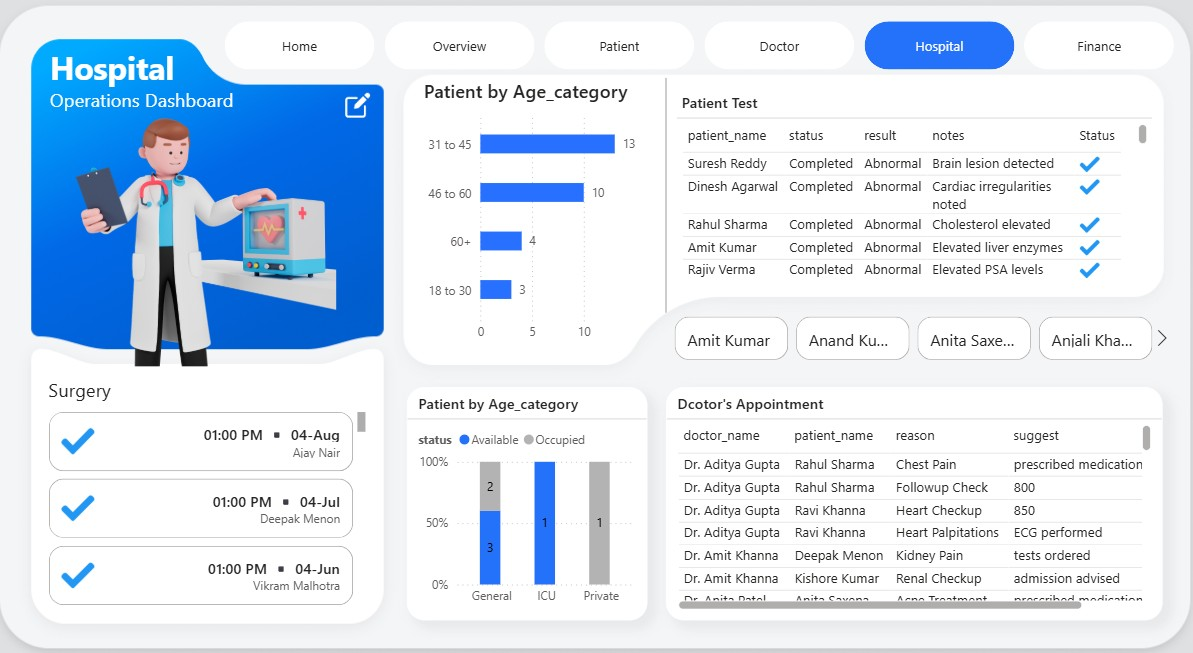

The page's visual inventory and layout, read from the dashboard file:
{"tool":"powerbi","page":{"name":"Hospital","canvas":[1280,720],"ordinal":4},"visuals":[{"type":"textbox","box":[82,67,209.2,88.9],"z":0},{"type":"image","box":[370,120,56.7,25],"z":1000},{"type":"image","box":[98.7,120,280,276.7],"z":2000},{"type":"advancedSlicerVisual","title":"Surgery","fields":{"Values":["patient_info.Surgery_Appointment_Time_Date"]},"box":[81.2,408.8,331.2,236.2],"z":3000},{"type":"tableEx","title":"Dcotor''s Appointment","fields":{"Values":["patient_info.doctor_name","patient_info.patient_name","appointment.reason","appointment.suggest","appointment.Status_Icon"]},"box":[711,418.4,503.2,236.5],"z":4000},{"type":"clusteredBarChart","title":"Patient by Age_category","fields":{"Category":["patient_info.Age_category"],"Y":["_Measures.Patient_count"]},"box":[460.8,105.3,231.1,274.8],"z":5000},{"type":"shape","box":[680.9,105.3,60.2,237.9],"z":6000},{"type":"tableEx","title":"Patient Test","fields":{"Values":["patient_info.patient_name","patient_tests.status","patient_tests.result","patient_tests.notes","patient_tests.Test_Status_Icon_col"]},"box":[721.9,120.3,481.3,192.8],"z":7000},{"type":"hundredPercentStackedColumnChart","title":"Patient by Age_category","fields":{"Category":["beds_info.room_type"],"Y":["Count(beds_info.beds)"],"Series":["beds_info.status"]},"box":[448.5,418.4,243.4,236.5],"z":8000},{"type":"advancedSlicerVisual","fields":{"Values":["Staff.name"]},"box":[694.6,341.8,534.6,54.7],"z":9000},{"type":"pageNavigator","box":[263.9,47.9,966.7,49.2],"z":10000}]}

Visuals, with their boxes in screenshot pixels (x1, y1, x2, y2), scaled from the page's 1280x720 canvas onto the 1193x653 screenshot:
textbox: x1=76 y1=61 x2=271 y2=141
image: x1=345 y1=109 x2=398 y2=132
image: x1=92 y1=109 x2=353 y2=360
"Surgery" advancedSlicerVisual: x1=76 y1=371 x2=384 y2=585
"Dcotor''s Appointment" tableEx: x1=663 y1=379 x2=1132 y2=594
"Patient by Age_category" clusteredBarChart: x1=429 y1=96 x2=645 y2=345
shape: x1=635 y1=96 x2=691 y2=311
"Patient Test" tableEx: x1=673 y1=109 x2=1121 y2=284
"Patient by Age_category" hundredPercentStackedColumnChart: x1=418 y1=379 x2=645 y2=594
advancedSlicerVisual - Staff.name: x1=647 y1=310 x2=1146 y2=360
pageNavigator: x1=246 y1=43 x2=1147 y2=88
